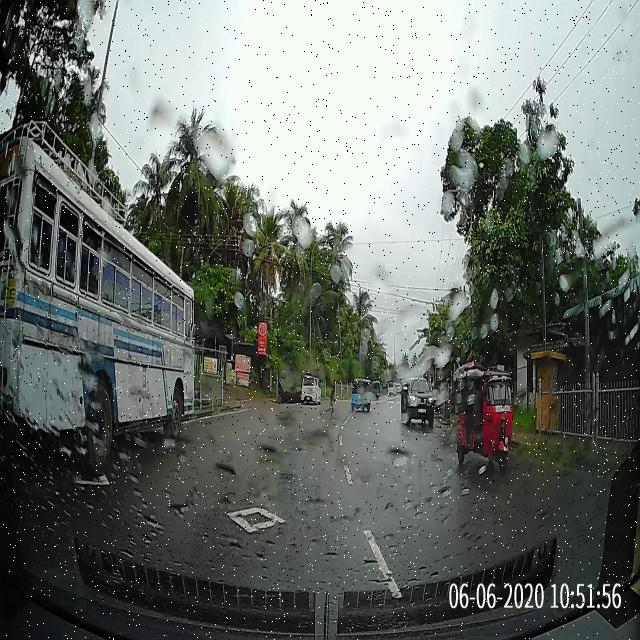diamond: (148, 478, 392, 571)
